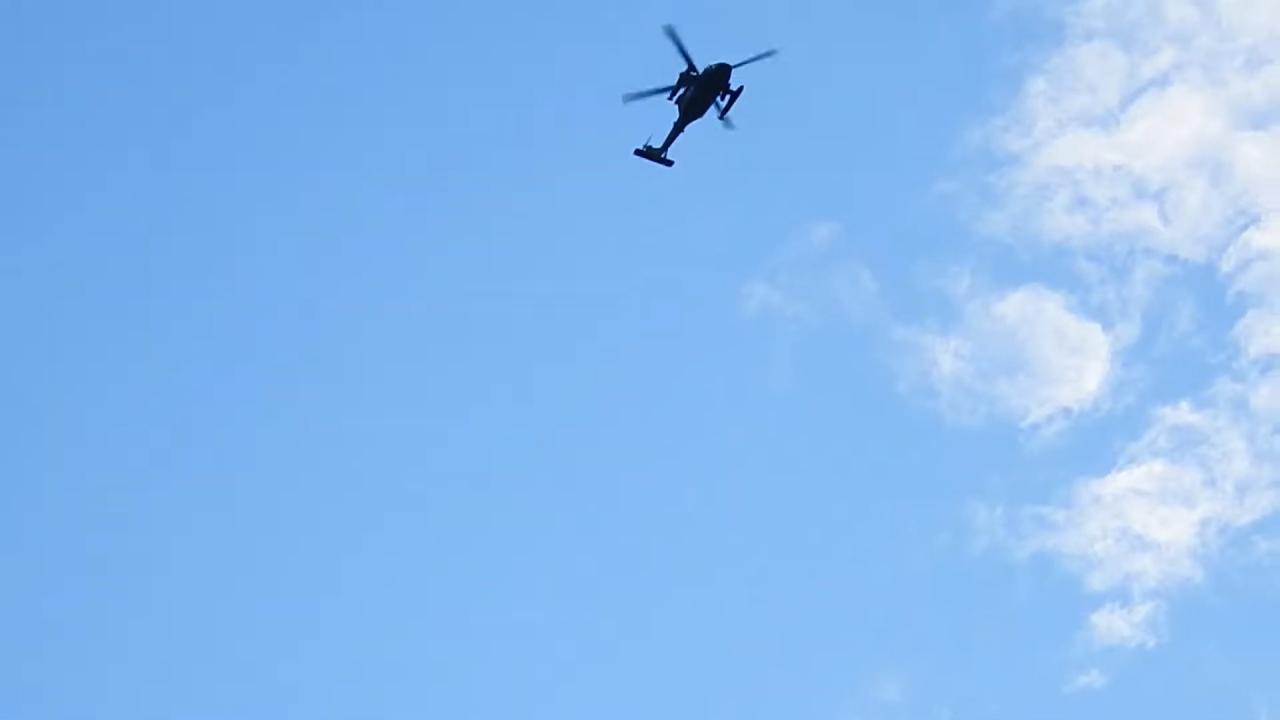Helicopter: (578, 15, 814, 180)
